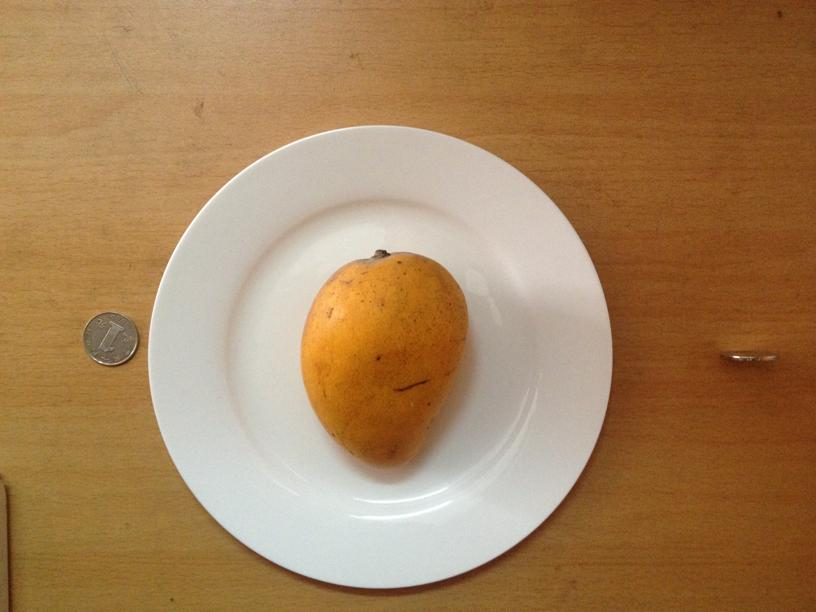coin: (79, 310, 139, 366)
mango: (302, 247, 469, 468)
